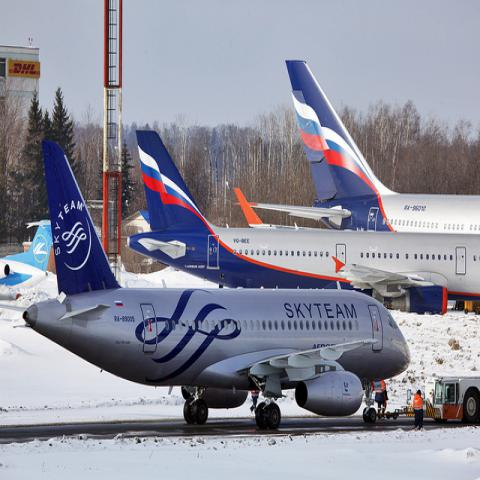truck: (433, 374, 479, 424)
